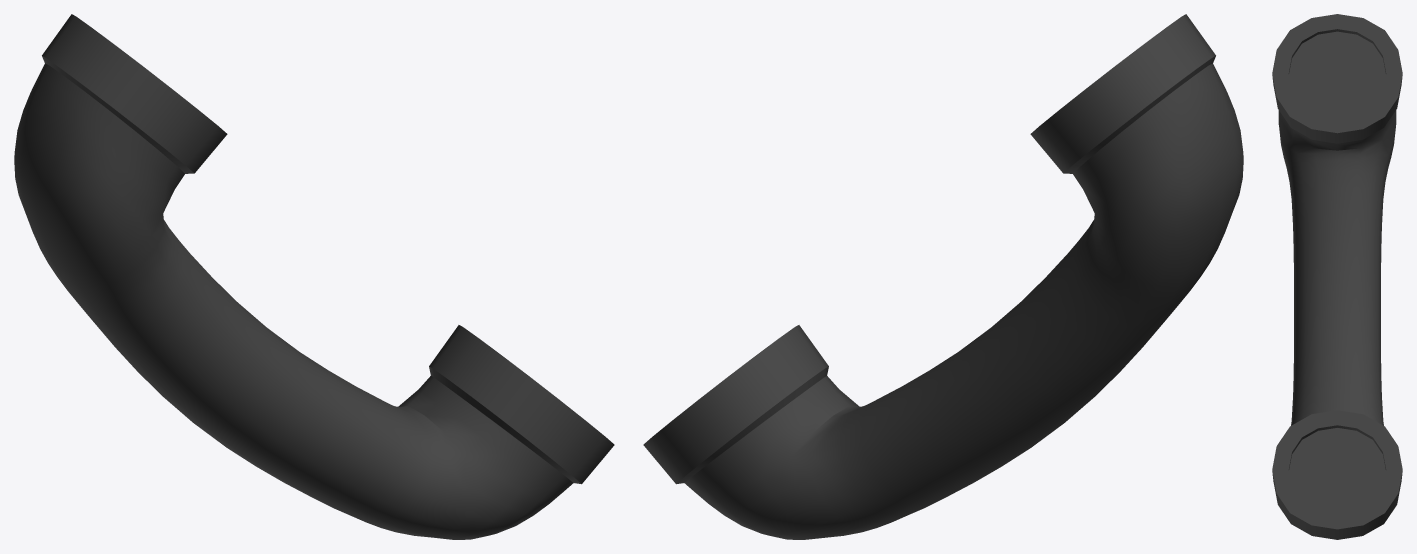
The model's file is telephone_receiver.glb.
3 views of the same model, side by side, from view 1: azimuth 30°, elevation 25°; view 2: azimuth 150°, elevation 25°; view 3: azimuth 270°, elevation 25° (orthographic). The views are drawn at different scales.
Parts seen in each view (by area): view 1: Cube.920; view 2: Cube.920; view 3: Cube.920.
Part boxes in pixels (x1,y1,x2,y2): Cube.920: (14,14,614,539); Cube.920: (643,14,1243,539); Cube.920: (1272,14,1402,539).
Size of the model in its own units: 2.23 by 2.23 by 0.6742.
Materials: 1 (1 with a texture image).
